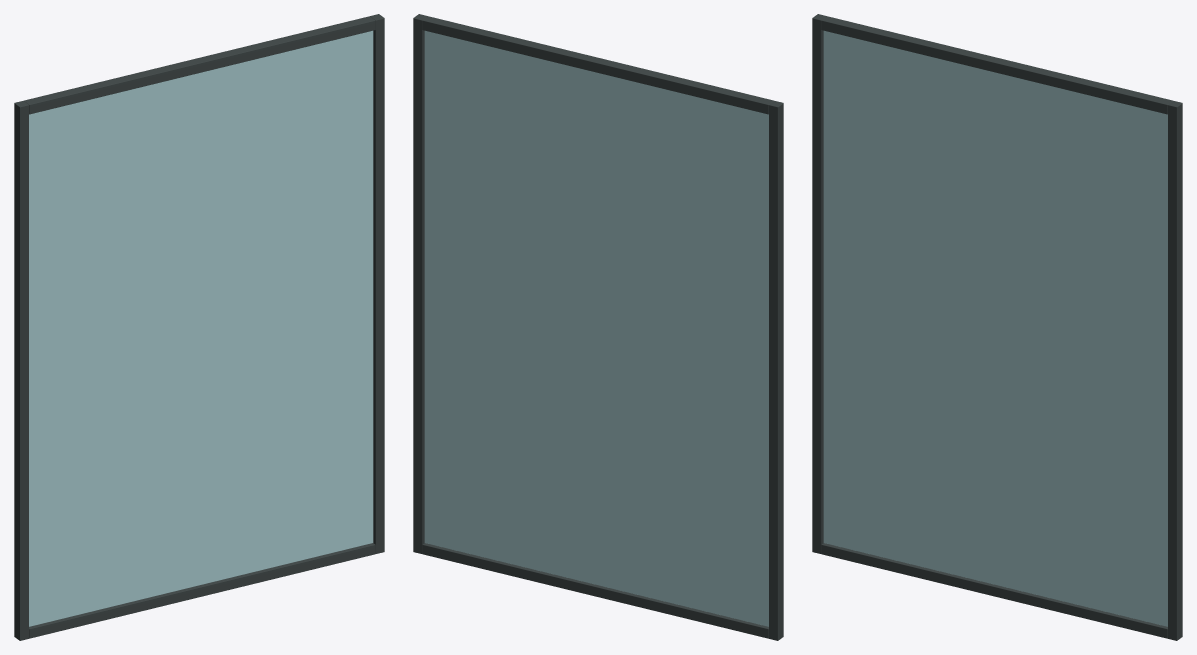
File: balcony_fixed_panel.glb
3 renders of one model, left to right at view 1: azimuth 30°, elevation 25°; view 2: azimuth 150°, elevation 25°; view 3: azimuth 330°, elevation 25°, orthographic.
Parts seen in each view (by area): view 1: balcony_fixed_panel_glass, balcony_fixed_panel, balcony_fixed_panel_stile_-1, balcony_fixed_panel_rail_-1; view 2: balcony_fixed_panel_glass, balcony_fixed_panel, balcony_fixed_panel_stile_-1, balcony_fixed_panel_rail_-1; view 3: balcony_fixed_panel_glass, balcony_fixed_panel, balcony_fixed_panel_stile_-1, balcony_fixed_panel_rail_-1.
Part boxes in pixels (<box>): balcony_fixed_panel_glass: <box>29,30,373,626</box>; balcony_fixed_panel: <box>24,14,384,553</box>; balcony_fixed_panel_stile_-1: <box>14,101,28,640</box>; balcony_fixed_panel_rail_-1: <box>29,543,375,638</box>; balcony_fixed_panel_glass: <box>424,30,768,626</box>; balcony_fixed_panel: <box>413,14,773,553</box>; balcony_fixed_panel_stile_-1: <box>769,101,783,640</box>; balcony_fixed_panel_rail_-1: <box>422,543,768,638</box>; balcony_fixed_panel_glass: <box>823,30,1167,626</box>; balcony_fixed_panel: <box>821,16,1182,640</box>; balcony_fixed_panel_stile_-1: <box>812,14,826,553</box>; balcony_fixed_panel_rail_-1: <box>821,543,1167,638</box>.
Size of the model in its own units: 1.96 by 2.74 by 0.055.
